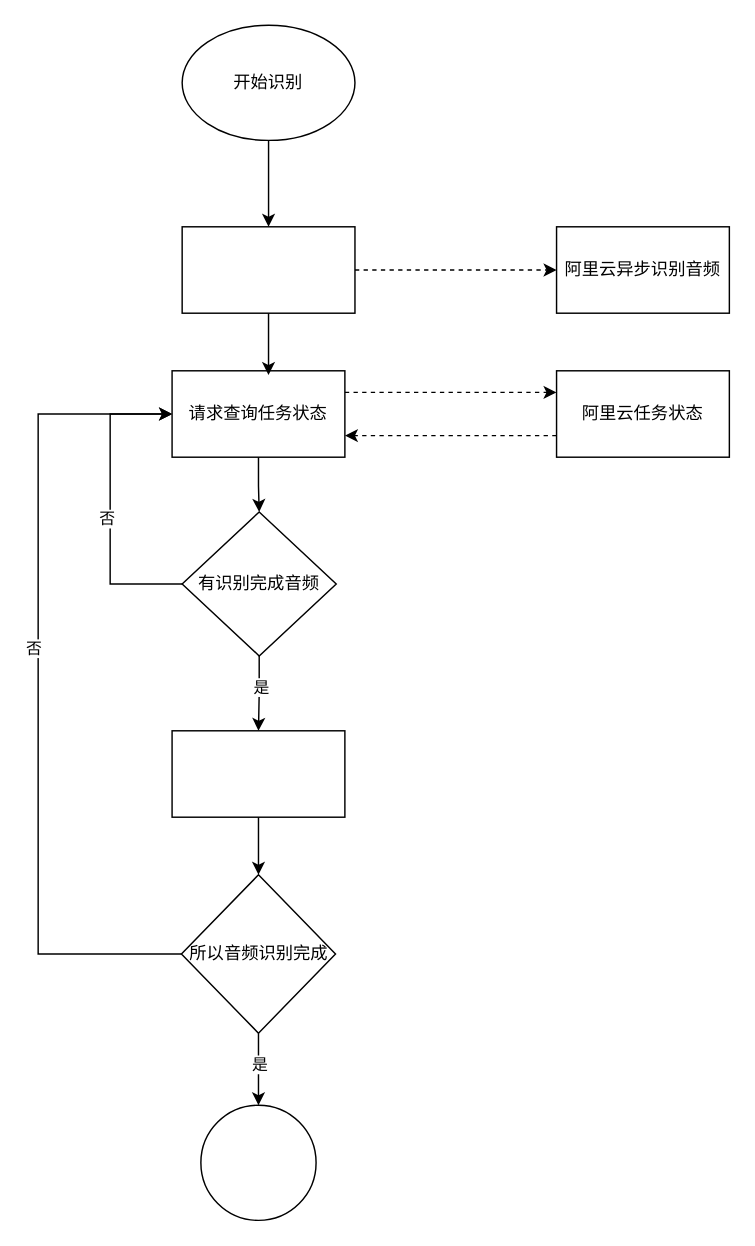
The diagram is 755 pixels wide and 1246 high, and some of its shapes have lost their labels. Each missing label, with the centre of its shape:
"发送请求给阿里云" belongs at (268,269).
"结束" belongs at (257,1162).
"输出成功的识别" belongs at (258,773).
